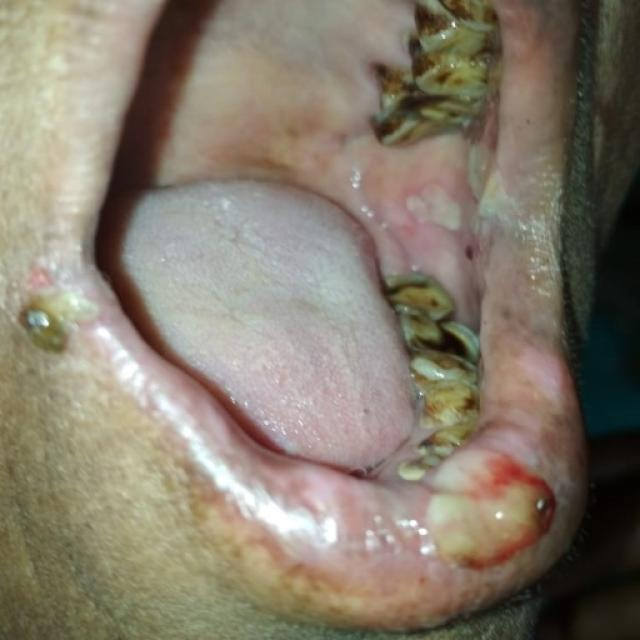cancer-detection: (399, 152, 576, 336), (422, 441, 566, 581), (18, 280, 106, 355)
processing_area: (9, 0, 585, 589), (486, 11, 495, 119)
